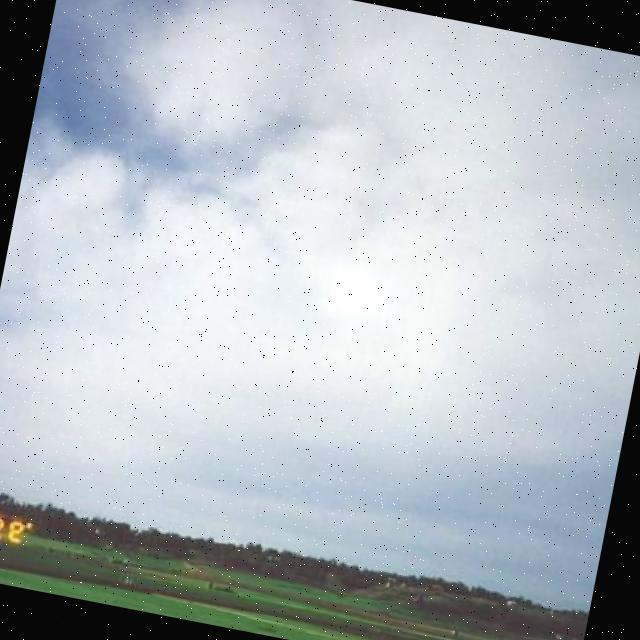Cs: (1, 1, 640, 460)
